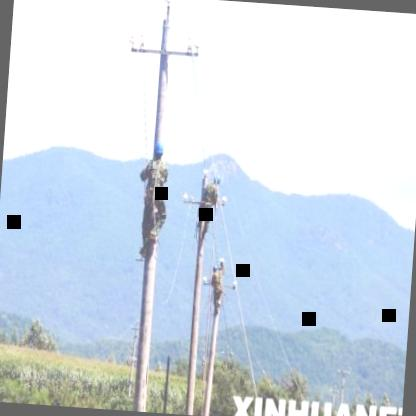helmet: (152, 138, 164, 162)
